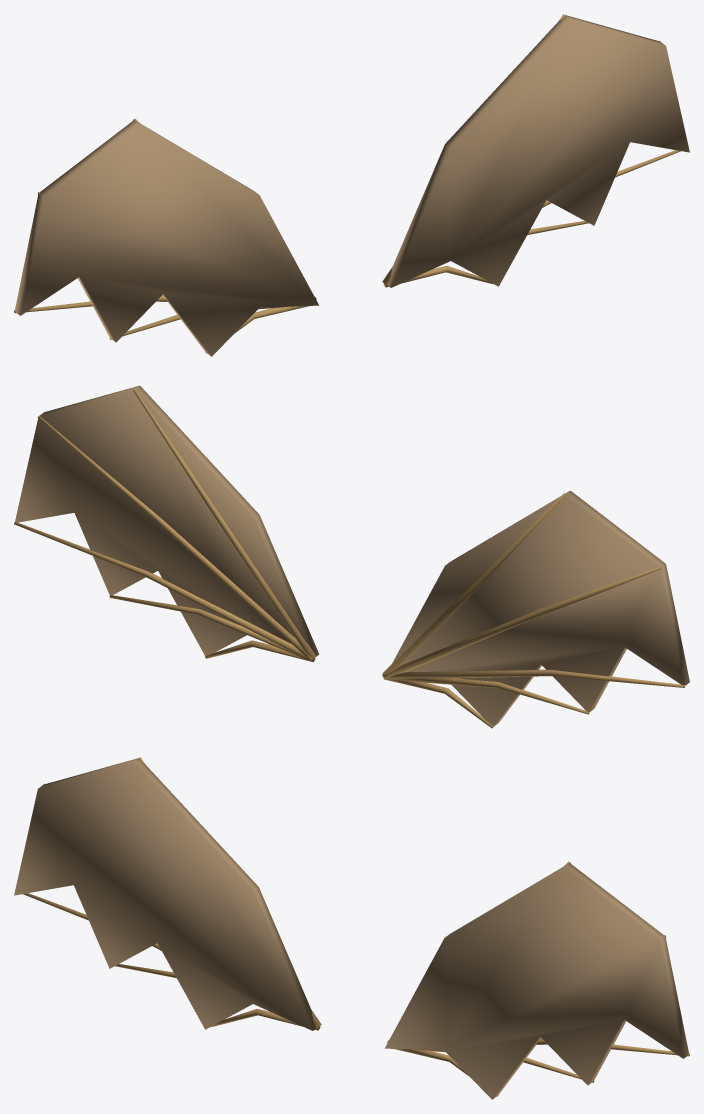
The model's file is tatter-wings.glb.
3 renders of one model, top to bottom at view 1: azimuth 30°, elevation 25°; view 2: azimuth 150°, elevation 25°; view 3: azimuth 330°, elevation 25°, orthographic.
Visible parts, largest first — view 1: tatter-wings; view 2: tatter-wings; view 3: tatter-wings.
Boxes of the visible parts, left/top/right/bottom form: tatter-wings: left=14, top=14, right=689, bottom=356; tatter-wings: left=14, top=385, right=689, bottom=728; tatter-wings: left=14, top=757, right=689, bottom=1099.
Bounding box in the file's own units: 56.03 × 20.18 × 1.08.
